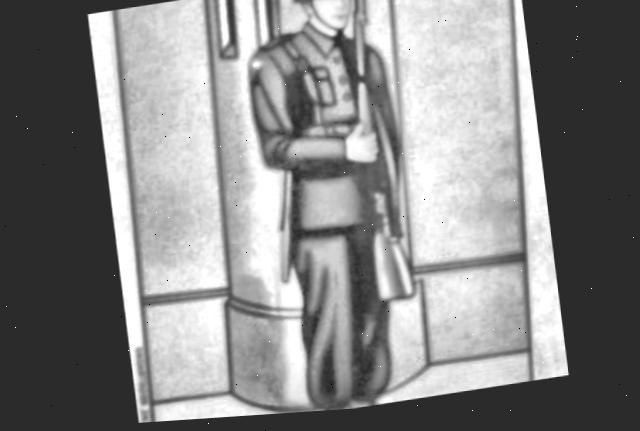El Soldado: (114, 0, 529, 424)
